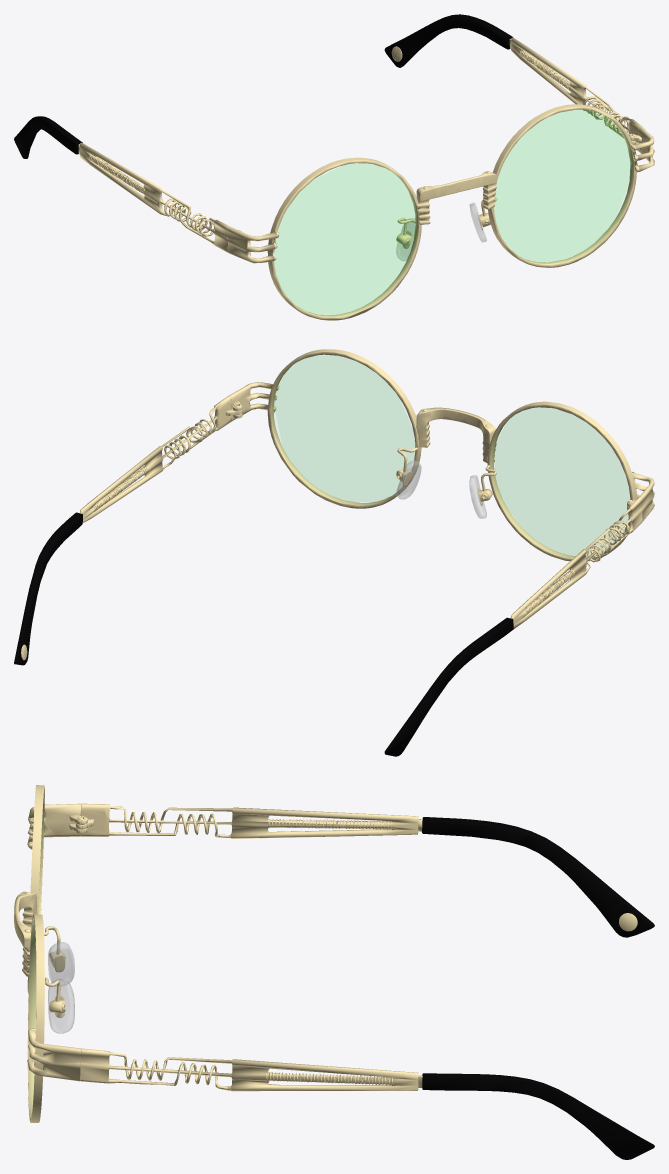
Rendered from glasses-mobile.glb.
3 views of the same model, one above another, from view 1: azimuth 30°, elevation 25°; view 2: azimuth 150°, elevation 25°; view 3: azimuth 270°, elevation 25° (orthographic). The views are drawn at different scales.
Visible parts, largest first — view 1: Object_2, Object_9, Object_7, Object_3, Object_8, Object_5, Object_10, Object_4, Object_6; view 2: Object_2, Object_7, Object_9, Object_3, Object_5, Object_8, Object_4, Object_10; view 3: Object_7, Object_3, Object_9, Object_8, Object_4, Object_10, Object_5, Object_12, Object_6.
Boxes of the visible parts, bbox=[...] form: Object_2: bbox=[274, 110, 630, 314]; Object_9: bbox=[267, 104, 636, 320]; Object_7: bbox=[79, 37, 641, 252]; Object_3: bbox=[14, 14, 512, 158]; Object_8: bbox=[227, 126, 654, 263]; Object_5: bbox=[416, 171, 496, 224]; Object_10: bbox=[89, 50, 569, 194]; Object_4: bbox=[396, 202, 486, 260]; Object_6: bbox=[275, 147, 637, 259]; Object_2: bbox=[274, 356, 629, 555]; Object_7: bbox=[80, 396, 643, 628]; Object_9: bbox=[267, 349, 636, 561]; Object_3: bbox=[14, 512, 513, 756]; Object_5: bbox=[416, 407, 496, 463]; Object_8: bbox=[228, 382, 654, 520]; Object_4: bbox=[396, 460, 486, 518]; Object_10: bbox=[93, 466, 574, 617]; Object_7: bbox=[80, 803, 418, 1091]; Object_3: bbox=[422, 817, 654, 1159]; Object_9: bbox=[27, 785, 44, 1122]; Object_8: bbox=[27, 803, 81, 1081]; Object_4: bbox=[48, 942, 74, 1033]; Object_10: bbox=[266, 819, 393, 1085]; Object_5: bbox=[14, 891, 36, 976]; Object_12: bbox=[50, 816, 637, 1087]; Object_6: bbox=[24, 819, 65, 1012].
Bounding box in the file's own units: 7.04 × 2.38 × 7.31.
